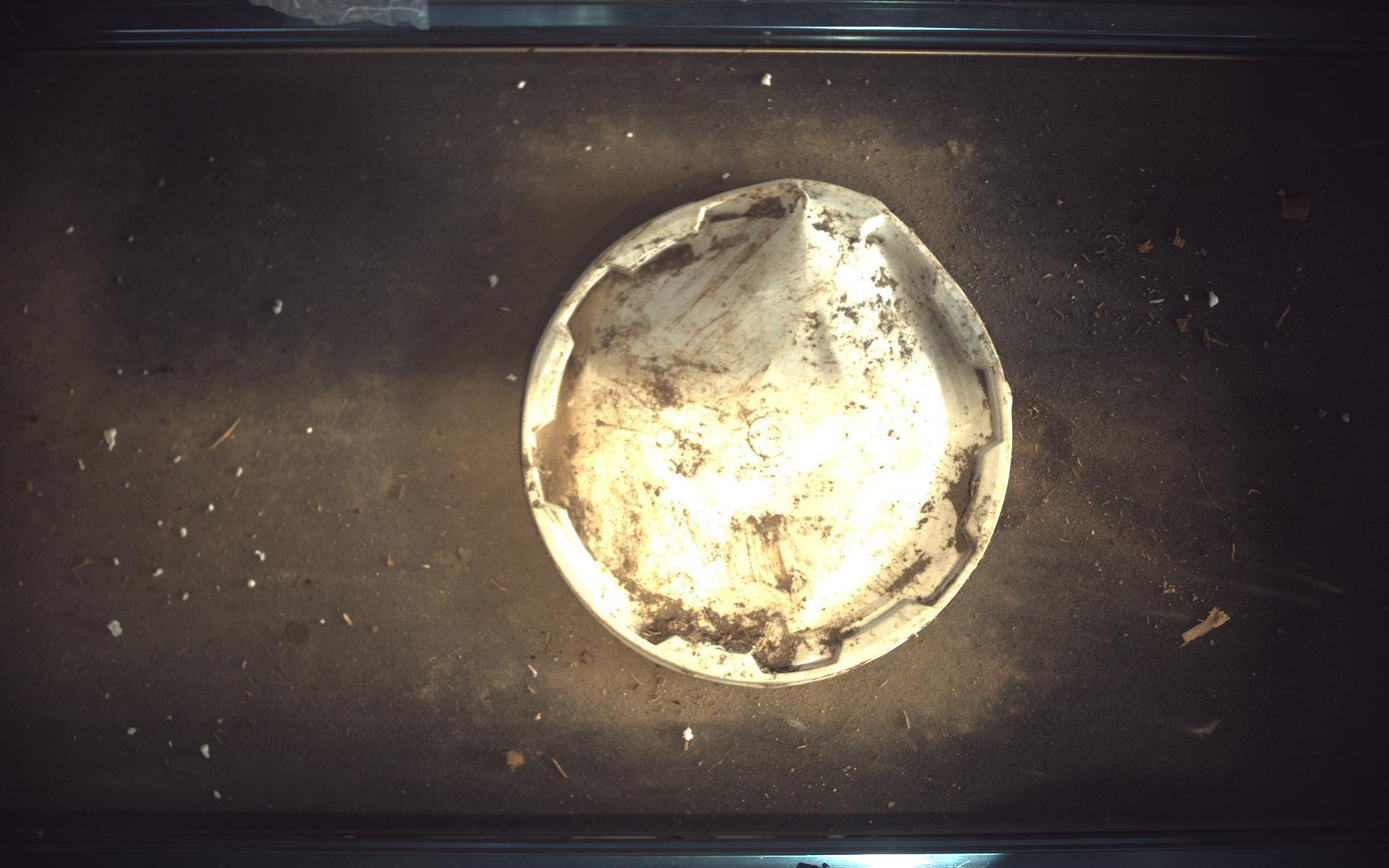plastic: (522, 178, 1014, 686)
